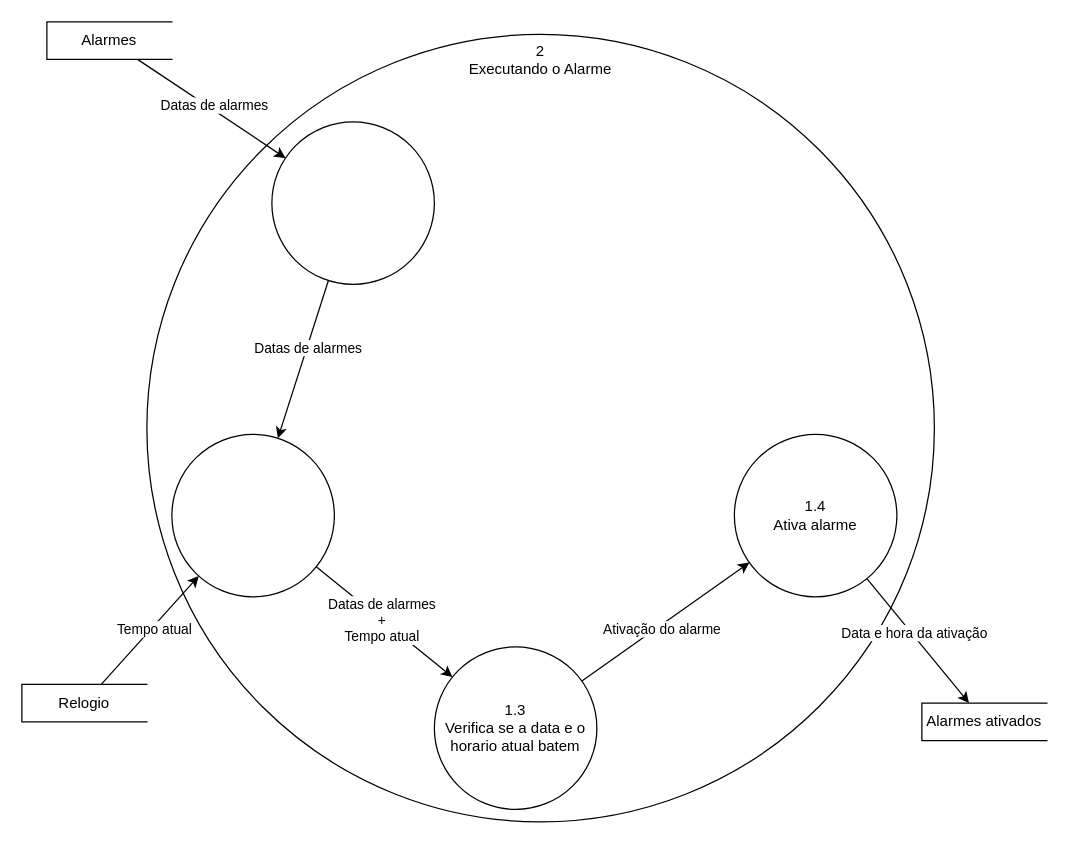
The diagram is 1069 pixels wide and 844 high, and some of its shapes have lost their labels. Here are the shapes that lost their labels. From the top down, the centre of each, then its label:
[352,202]: 1.1 Recebe a data dos alarmes
[252,515]: 1.2 Obtem a data atual
